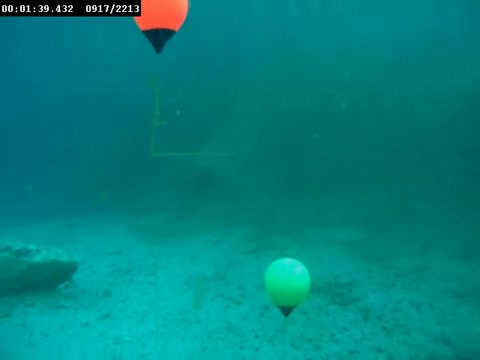buoy_green: (263, 258, 309, 318)
